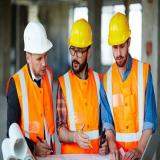Helmet: (24, 23, 53, 58), (107, 11, 132, 49), (67, 17, 94, 51)
Vest: (104, 58, 152, 160), (6, 62, 56, 157), (58, 67, 103, 153)
